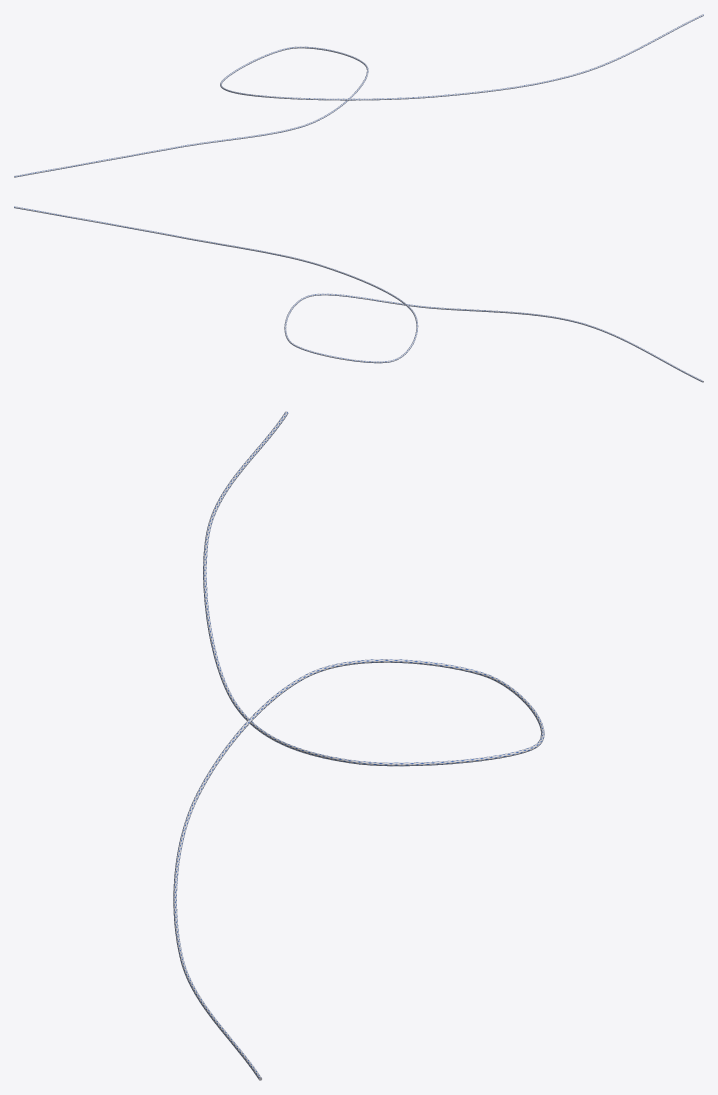
The model's file is orthowire-bluewhite.glb.
3 views of the same model, one above another, from view 1: azimuth 30°, elevation 25°; view 2: azimuth 150°, elevation 25°; view 3: azimuth 270°, elevation 25° (orthographic). The views are drawn at different scales.
Parts seen in each view (by area): view 1: strand; view 2: strand; view 3: strand.
Boxes of the visible parts, left/top/right/bottom form: strand: left=14, top=14, right=703, bottom=177; strand: left=14, top=206, right=703, bottom=382; strand: left=173, top=411, right=544, bottom=1080.
Size of the model in its own units: 0.2401 by 0.0066 by 0.0565.
Materials: 1 (1 with a texture image).
